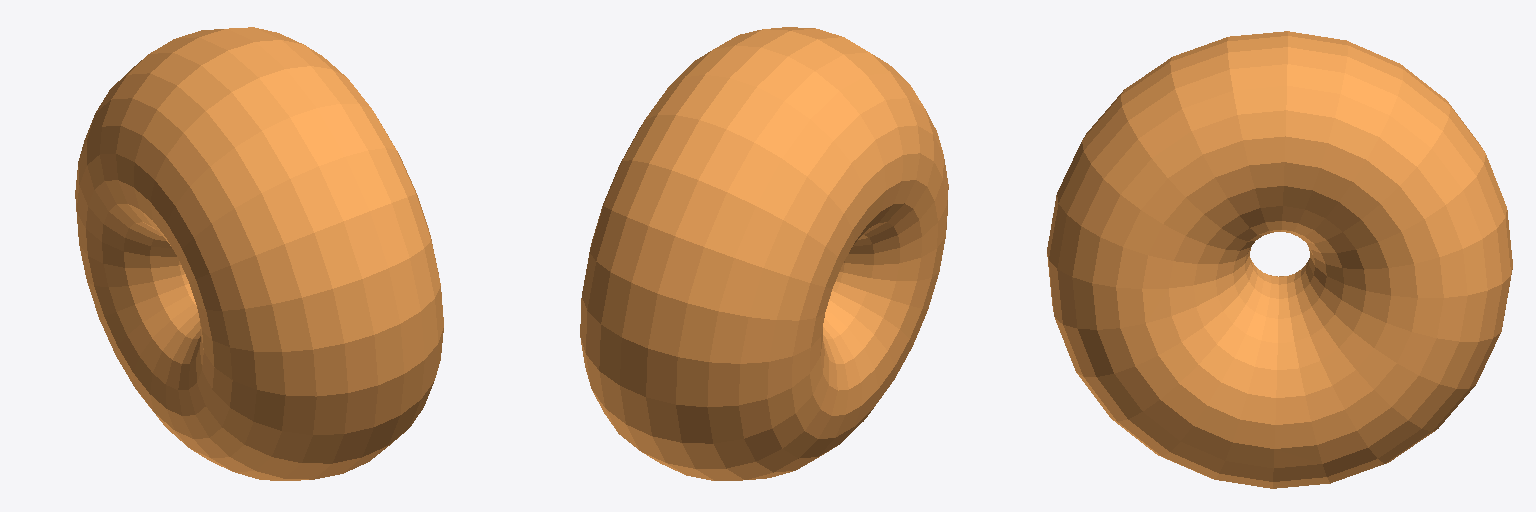
The model's file is donut6.obj.
3 views of the same model, side by side, from view 1: azimuth 30°, elevation 25°; view 2: azimuth 150°, elevation 25°; view 3: azimuth 270°, elevation 25° (orthographic).
Parts seen in each view (by area): view 1: Mesh1 Model; view 2: Mesh1 Model; view 3: Mesh1 Model.
Boxes of the visible parts, x1=… form: Mesh1 Model: x1=75, y1=27, x2=443, y2=480; Mesh1 Model: x1=580, y1=27, x2=948, y2=480; Mesh1 Model: x1=1047, y1=31, x2=1512, y2=488.
Size of the model in its own units: 333 by 557 by 559.